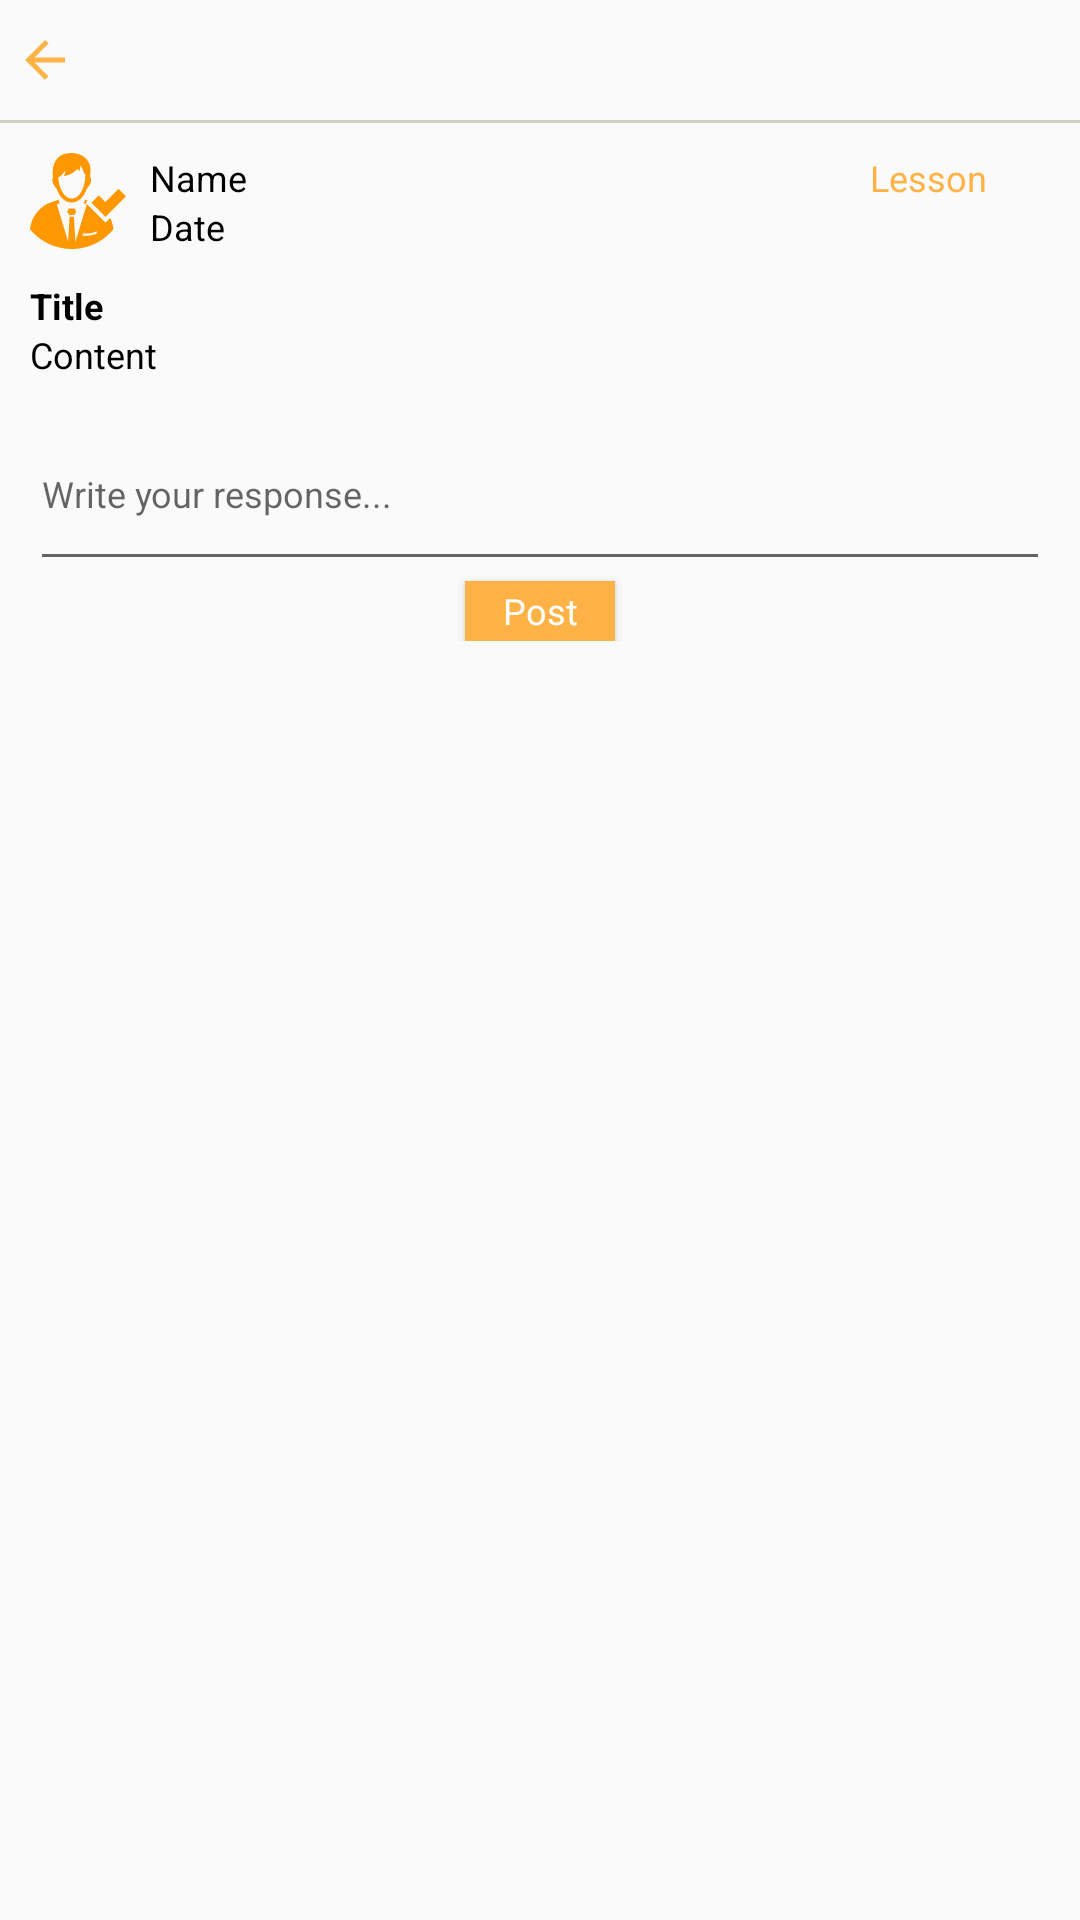

Icon bounding boxes for this 1080px×1920px phone screenshot, format (x1, y1, x2, y2):
arrow back: (25, 40, 65, 80)
